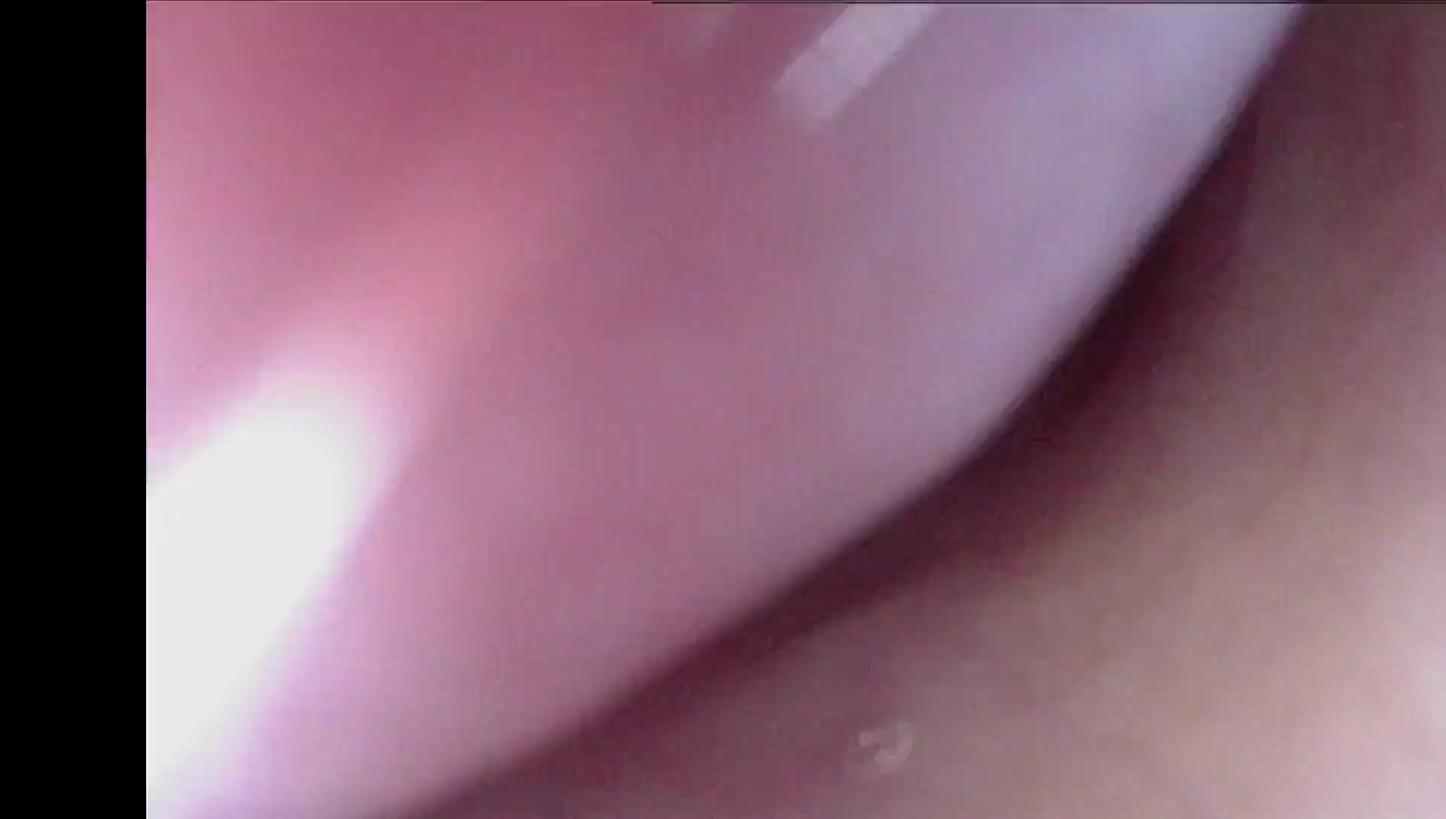close_wall: (1108, 510, 1446, 819)
next: (892, 144, 1251, 570)
